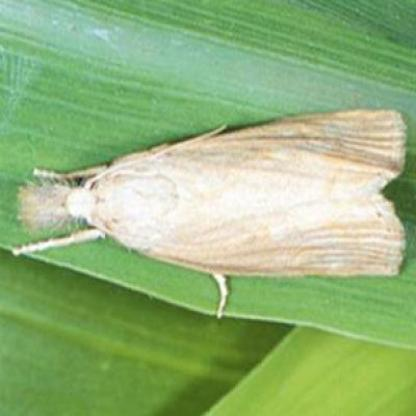stem-borer: (10, 105, 410, 320)
